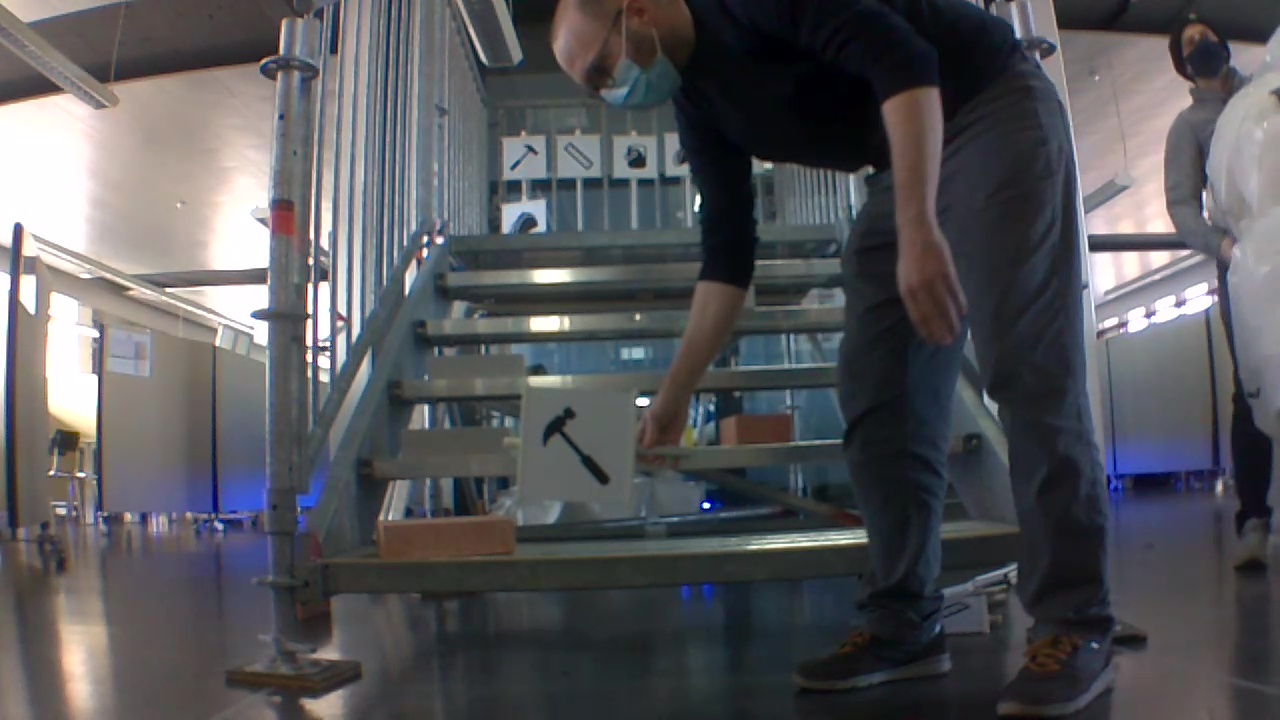brick: (375, 516, 513, 558), (403, 424, 500, 458), (424, 353, 527, 381), (719, 414, 790, 444)
bucket: (620, 140, 651, 169)
hammer: (533, 399, 616, 492), (504, 140, 538, 176)
ruler: (560, 138, 598, 172)
taco: (504, 206, 541, 235)
